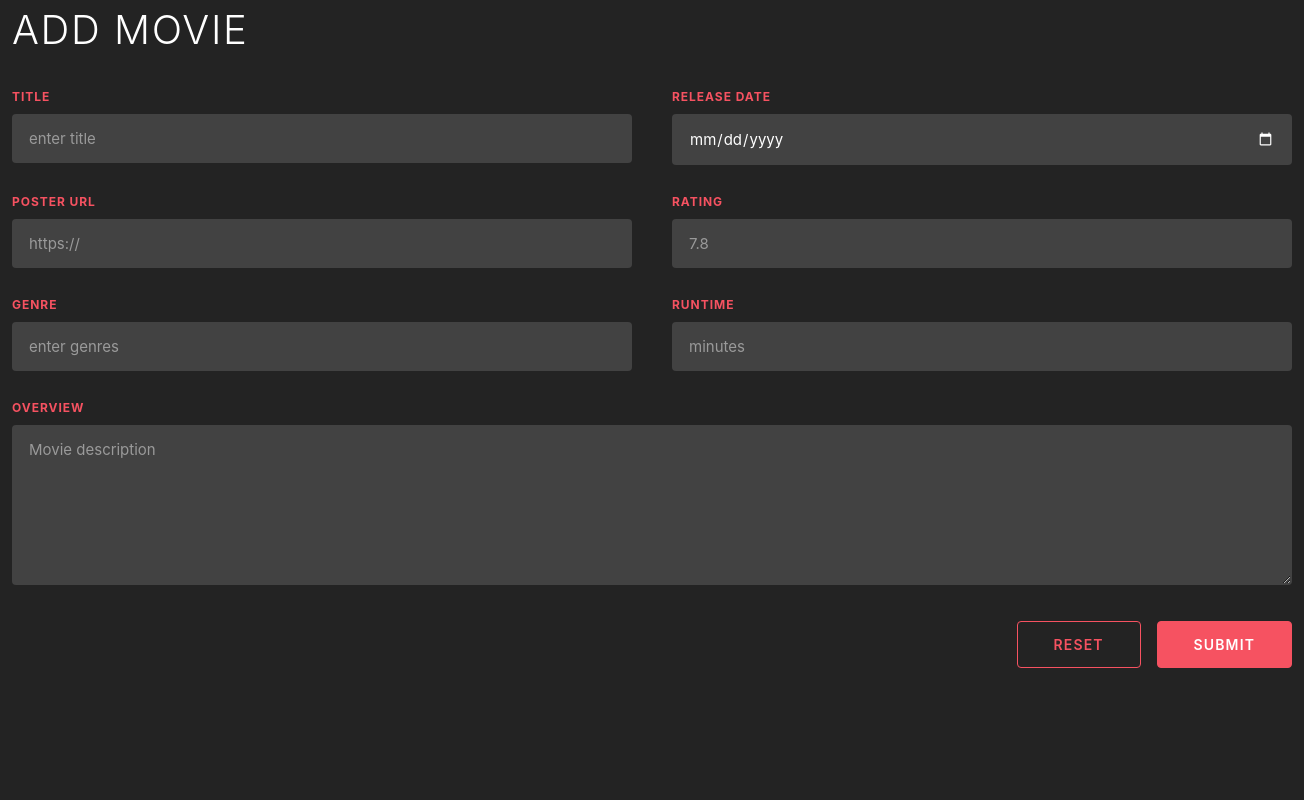
Scenario: MovieForm Component › ADD MOVIE › shows validation message
The width and height of the screenshot is (1304, 800).
Type "New Movie" into the field with placeholder "enter title".
click(322, 138); type("New Movie")  # box [12,114,632,163]
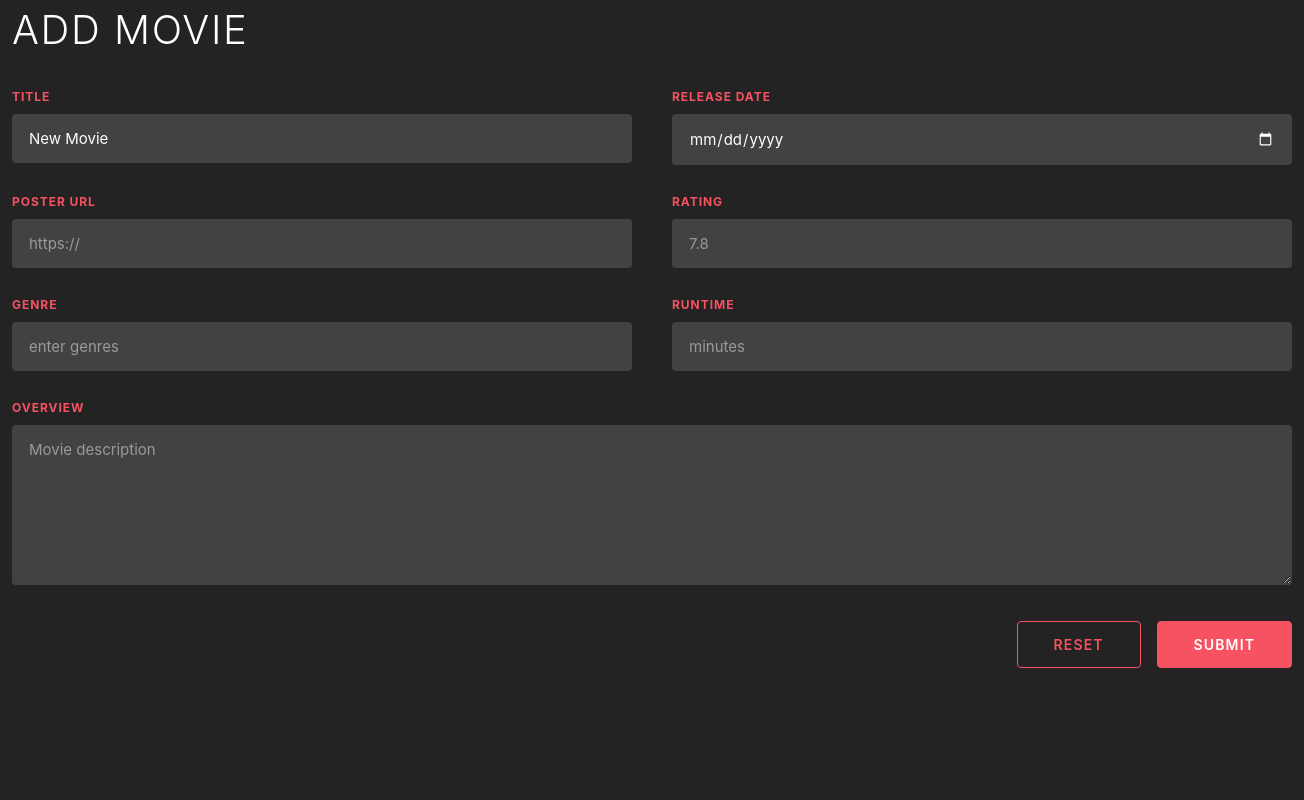
Click the button "SUBMIT".
click(1224, 644)  # box [1157,621,1292,668]
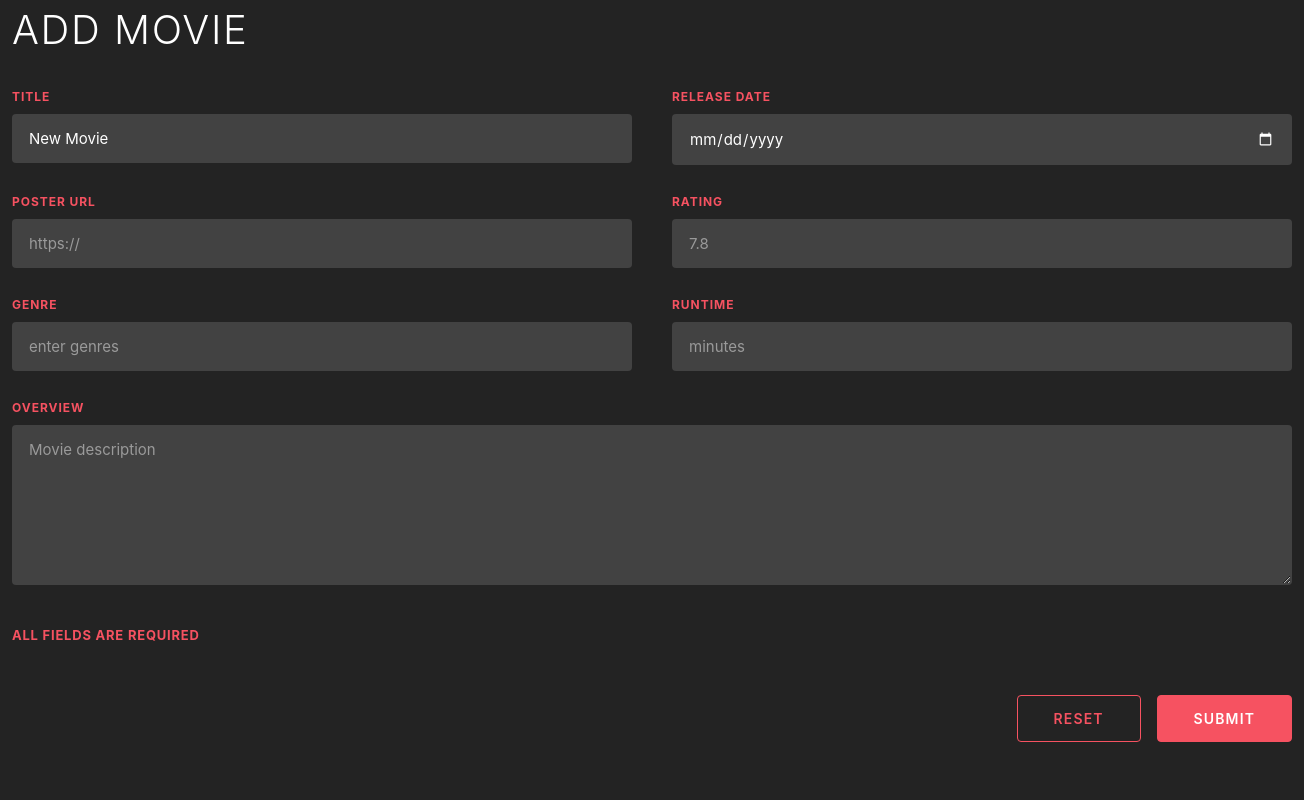
Expected: the text "ALL FIELDS ARE REQUIRED" is shown, [12,627,200,643]
